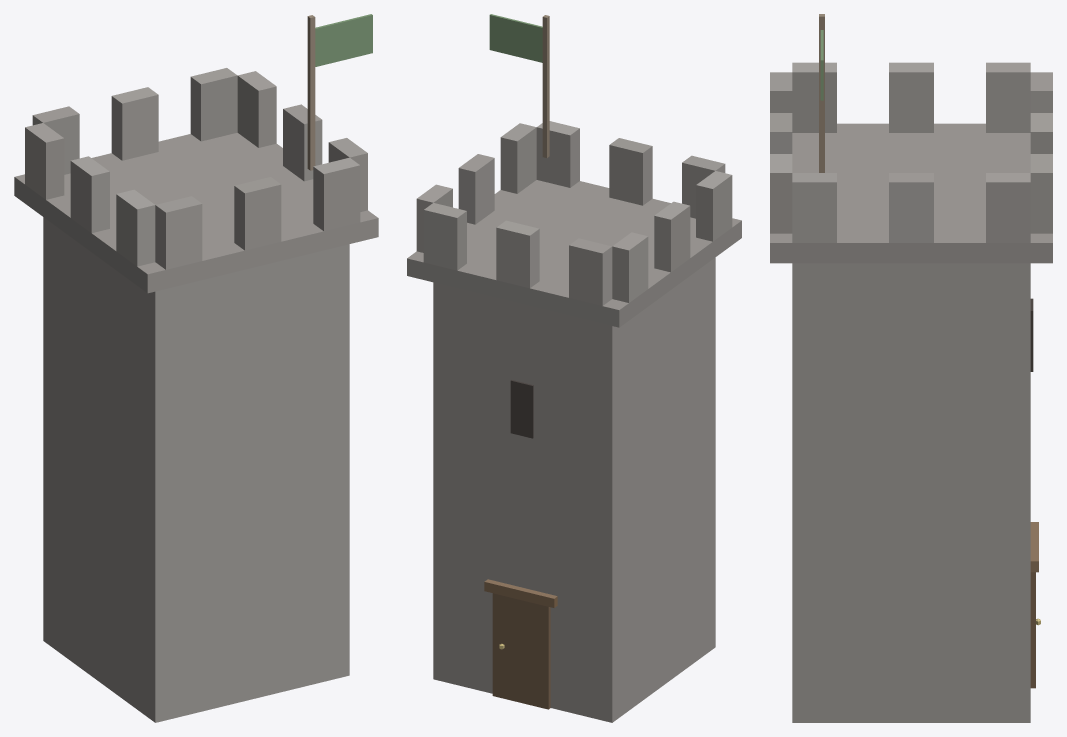
File: guard_tower.glb
The picture shows the model from 3 angles, left to right: view 1: azimuth 30°, elevation 25°; view 2: azimuth 150°, elevation 25°; view 3: azimuth 270°, elevation 25°; orthographic projection. The views are drawn at different scales.
Parts seen in each view (by area): view 1: guard_tower2; view 2: guard_tower2; view 3: guard_tower2.
Boxes of the visible parts, x1=… form: guard_tower2: x1=14, y1=14, x2=378, y2=722; guard_tower2: x1=407, y1=14, x2=741, y2=722; guard_tower2: x1=770, y1=14, x2=1052, y2=722.
Size of the model in its own units: 4.1 by 10.3 by 3.8.
